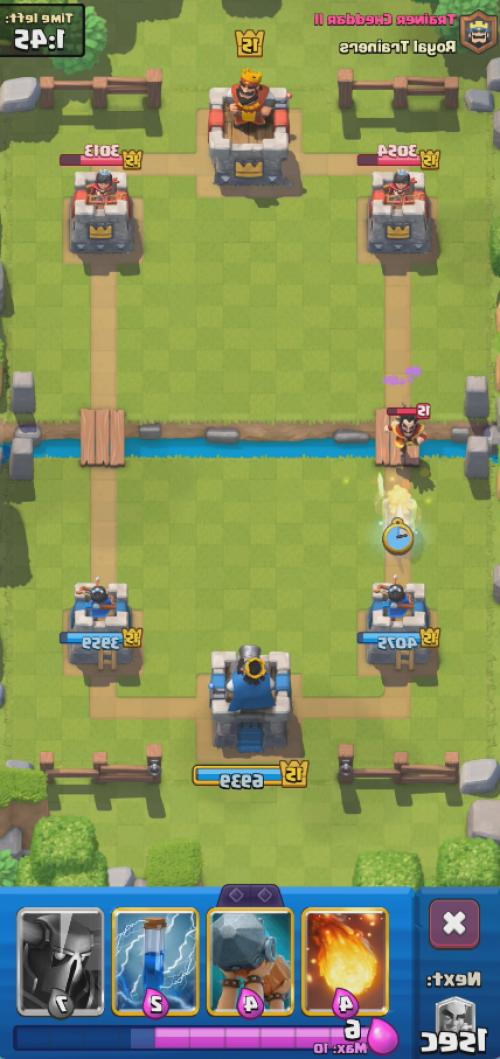Enemy-ElectroWizard: (386, 409, 426, 455)
Enemy-KingTower: (209, 70, 290, 187)
Enemy-PrincessTower: (368, 169, 431, 253), (71, 169, 133, 254)
